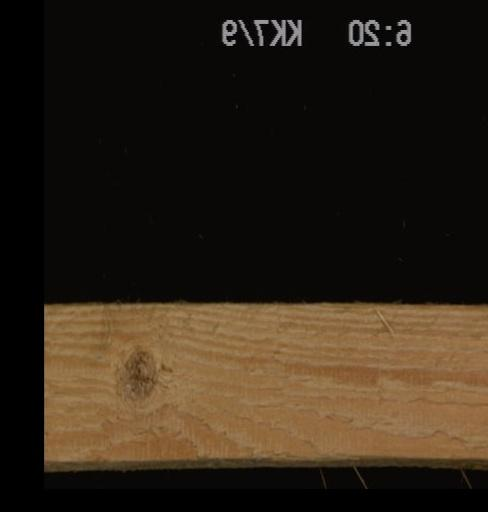sound_knot: (110, 338, 163, 407)
